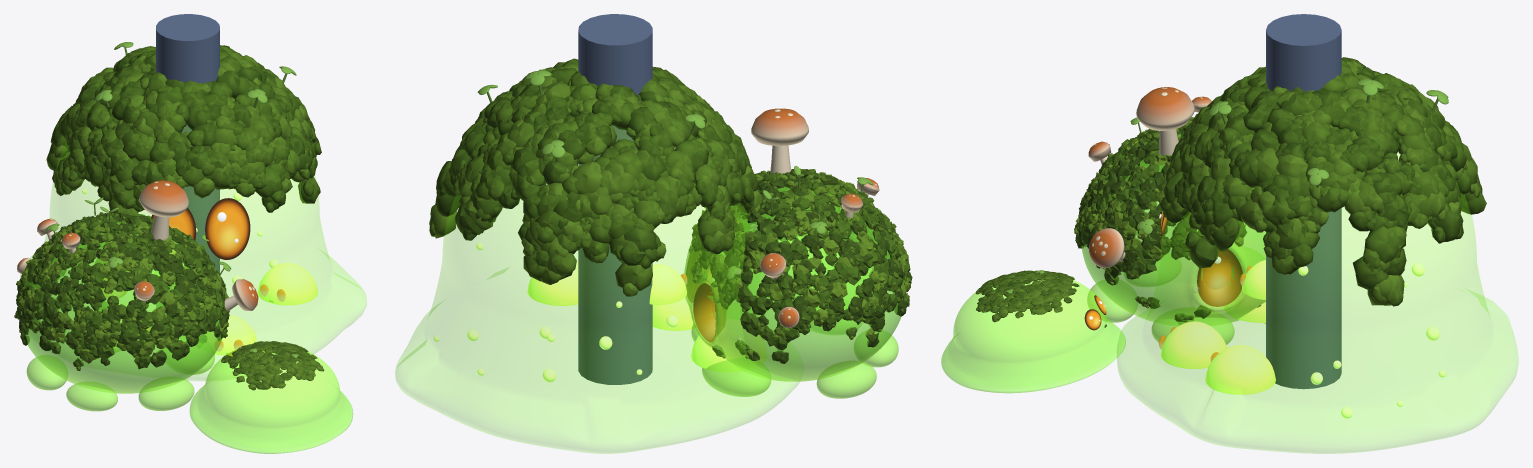
File: slime_movement.glb
3 views of the same model, side by side, from view 1: azimuth 30°, elevation 25°; view 2: azimuth 150°, elevation 25°; view 3: azimuth 270°, elevation 25° (orthographic). The views are drawn at different scales.
Visible parts, largest first — view 1: Moss (×3), Body (×3), part_0, Eyes, Baby_3, Mushroom_1, Plants (×2), Baby_2, Mushroom_2; view 2: Body (×2), Moss (×2), part_0, Mushroom_1, Baby_1, Eyes, Plants (×2), Baby_3, Baby_4, Baby_2, Bubbles, Mushroom_3; view 3: Body (×3), Moss (×3), part_0, Baby_3, Mushroom_1, Baby_2, Eyes, Mushroom_2, Plants, Baby_1, Bubbles, Baby_4.
Boxes of the visible parts, x1,y1,x2,y2 form: Moss (×3): [14, 45, 324, 390]; Body (×3): [20, 97, 366, 453]; part_0: [156, 14, 219, 314]; Eyes: [151, 198, 250, 259]; Baby_3: [257, 263, 317, 305]; Mushroom_1: [139, 180, 188, 240]; Plants (×2): [45, 42, 296, 275]; Baby_2: [205, 315, 256, 355]; Mushroom_2: [224, 279, 258, 311]; Body (×2): [395, 125, 902, 453]; Moss (×2): [429, 58, 912, 363]; part_0: [578, 14, 652, 384]; Mushroom_1: [751, 108, 808, 173]; Baby_1: [691, 319, 766, 371]; Eyes: [686, 251, 725, 342]; Plants (×2): [477, 70, 873, 279]; Baby_3: [527, 261, 578, 305]; Baby_4: [649, 264, 686, 304]; Baby_2: [652, 296, 694, 330]; Bubbles: [433, 242, 678, 382]; Mushroom_3: [760, 253, 785, 279]; Body (×3): [941, 134, 1518, 453]; Moss (×3): [975, 57, 1486, 324]; part_0: [1266, 14, 1341, 389]; Baby_3: [1205, 345, 1275, 394]; Mushroom_1: [1136, 87, 1194, 155]; Baby_2: [1160, 321, 1226, 368]; Eyes: [1197, 249, 1242, 306]; Mushroom_2: [1089, 228, 1125, 268]; Plants: [1208, 79, 1448, 187]; Baby_1: [1224, 273, 1265, 322]; Bubbles: [1298, 263, 1445, 418]; Baby_4: [1242, 260, 1265, 299].
Size of the model in its own units: 3.15 by 2.57 by 3.81.
